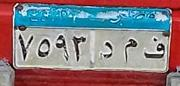3: (71, 34, 89, 63)
5: (36, 37, 52, 59)
7: (19, 33, 34, 60)
9: (55, 33, 69, 60)
daal: (99, 40, 115, 58)
faa: (143, 35, 165, 60)
meem: (121, 37, 140, 63)
